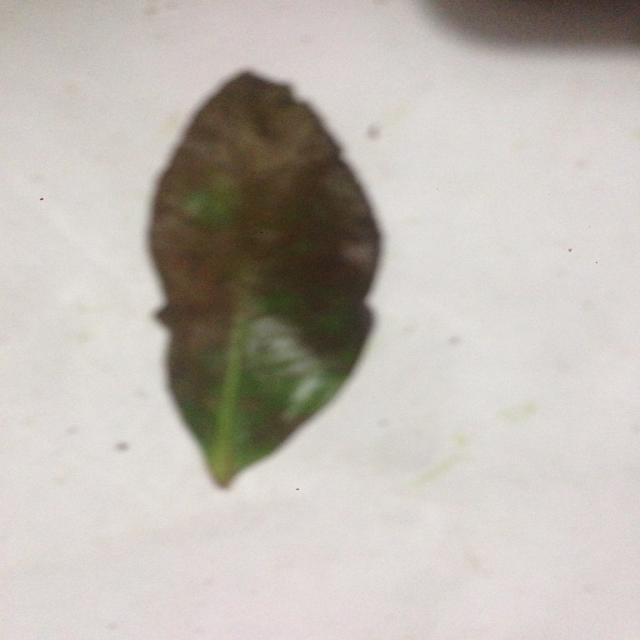Red Leaf Spot: (103, 66, 386, 500)
